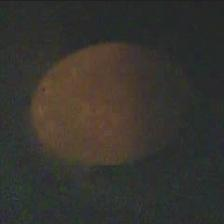fertile: (26, 38, 190, 170)
